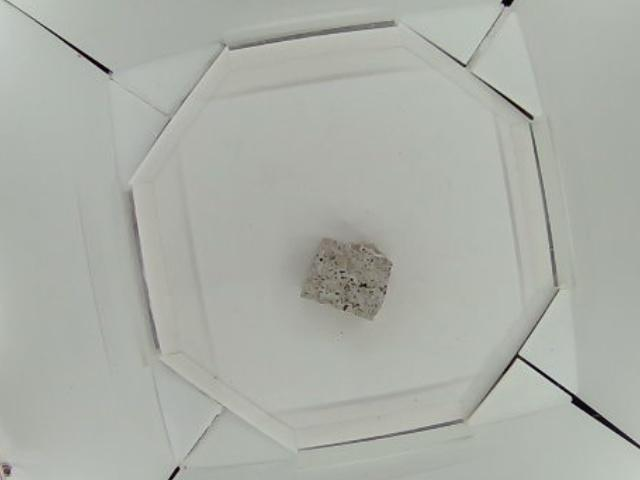China: (301, 235, 389, 319)
